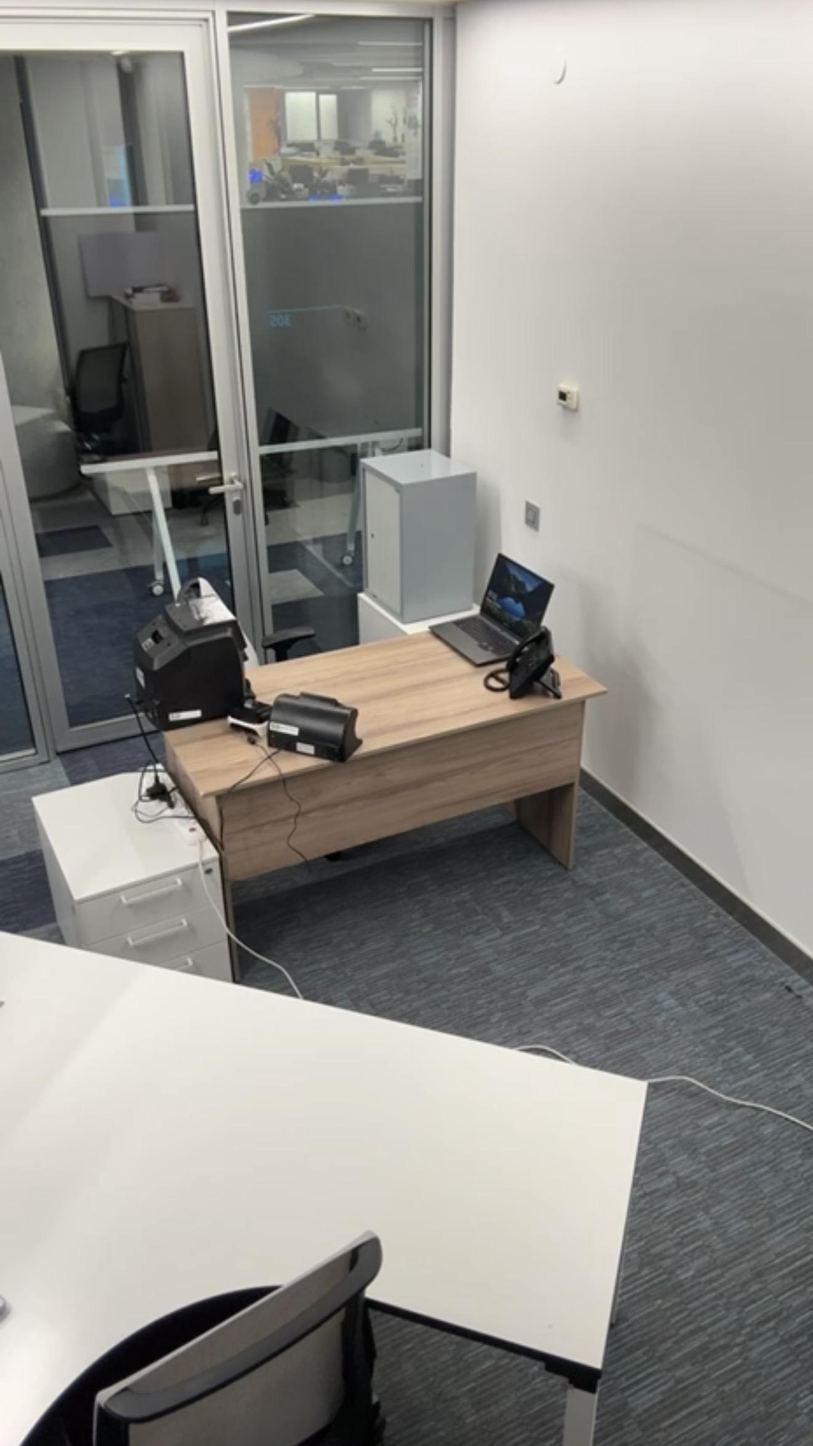counter: (142, 585, 246, 725)
screen_locked: (458, 554, 558, 663)
uv_lamp: (265, 690, 363, 756)
